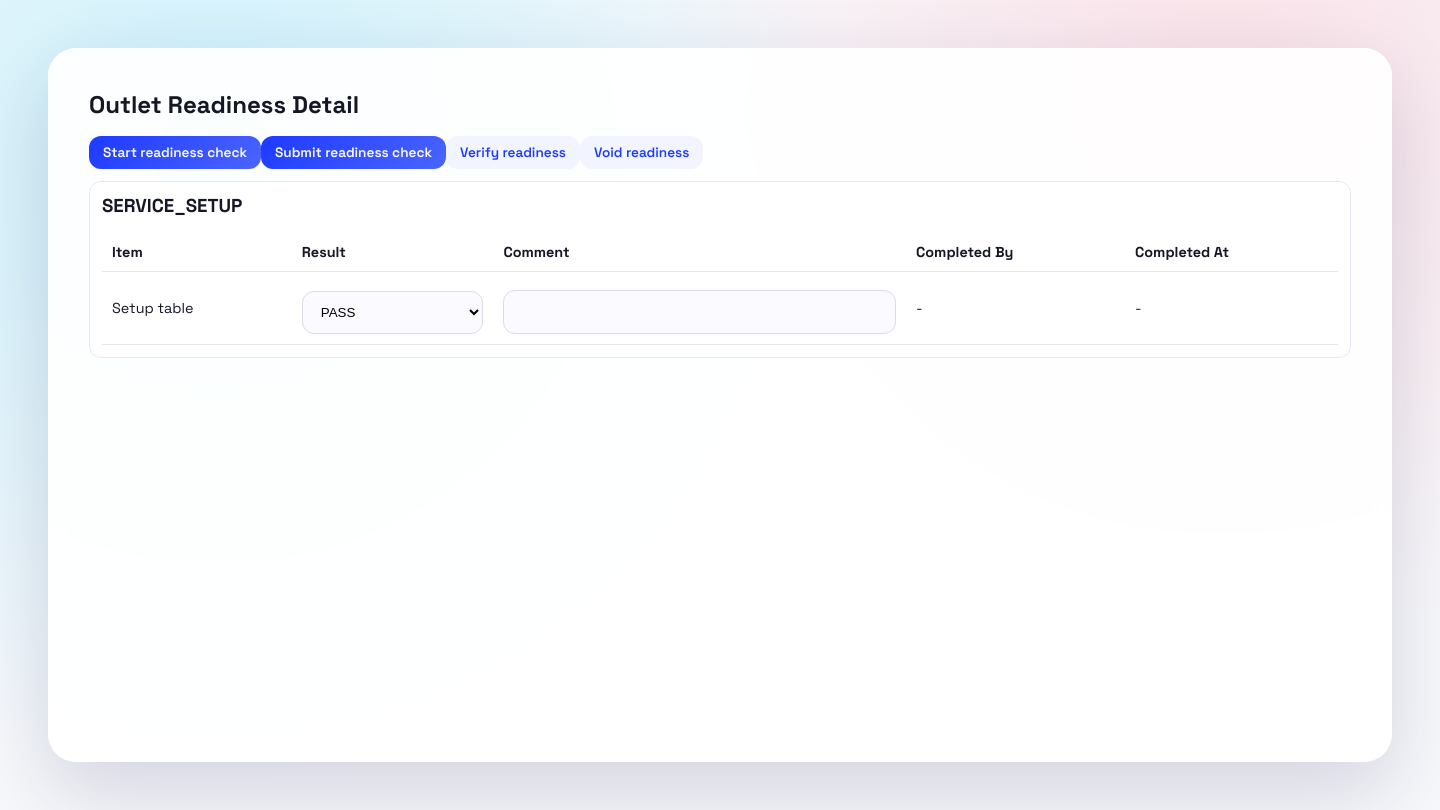
Test: OutletReadinessDetailPage › renders grouped checklist and validates fail comment and confirmation modal
Expected: the heading "SERVICE_SETUP" is shown, [102,194,242,217]
Select "FAIL" in the dropdown named "result-11": (392,312) [302,290,483,334]
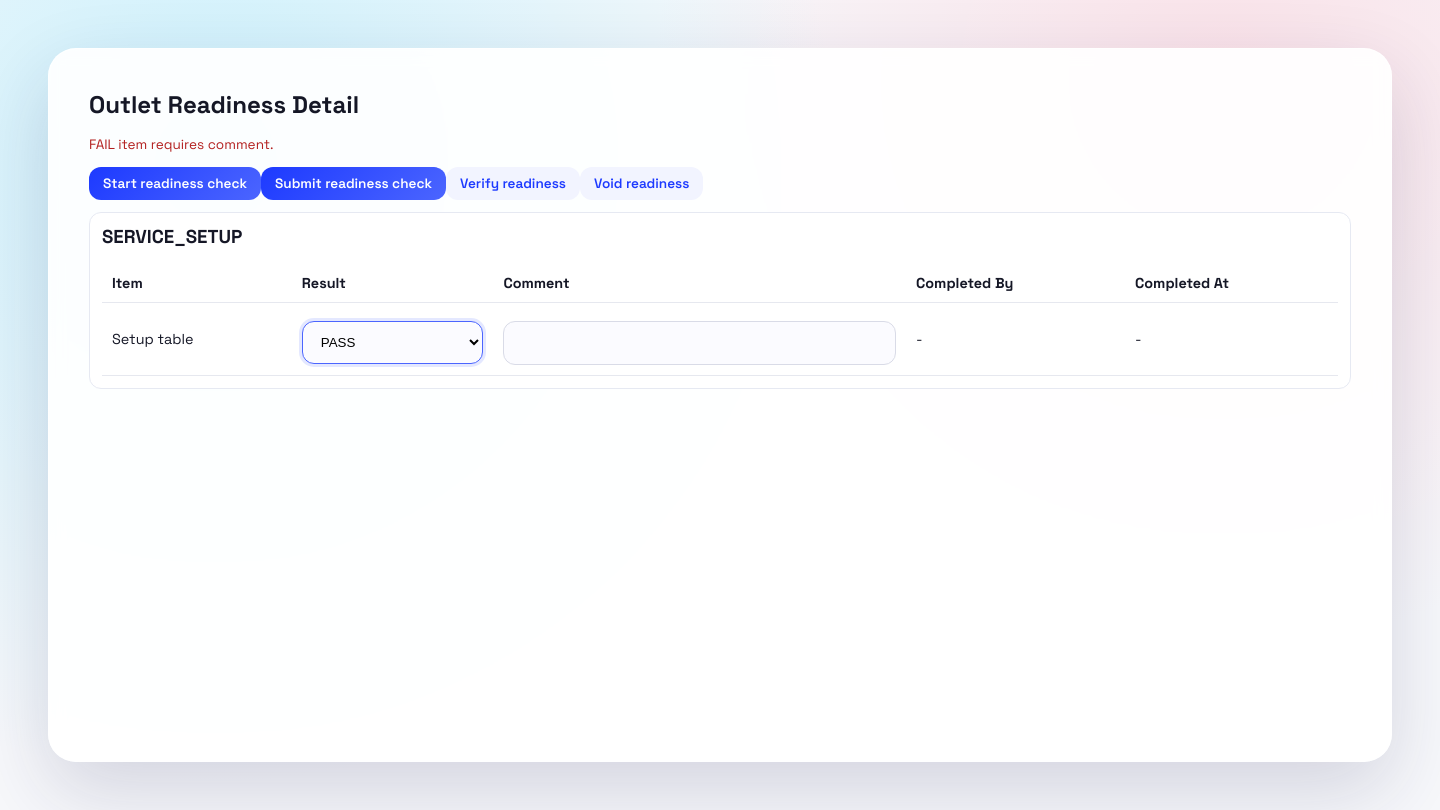
Now the text "FAIL item requires comment." is shown, box [89,136,274,153]
Click the button "Verify readiness": (513,183) [446,167,580,200]
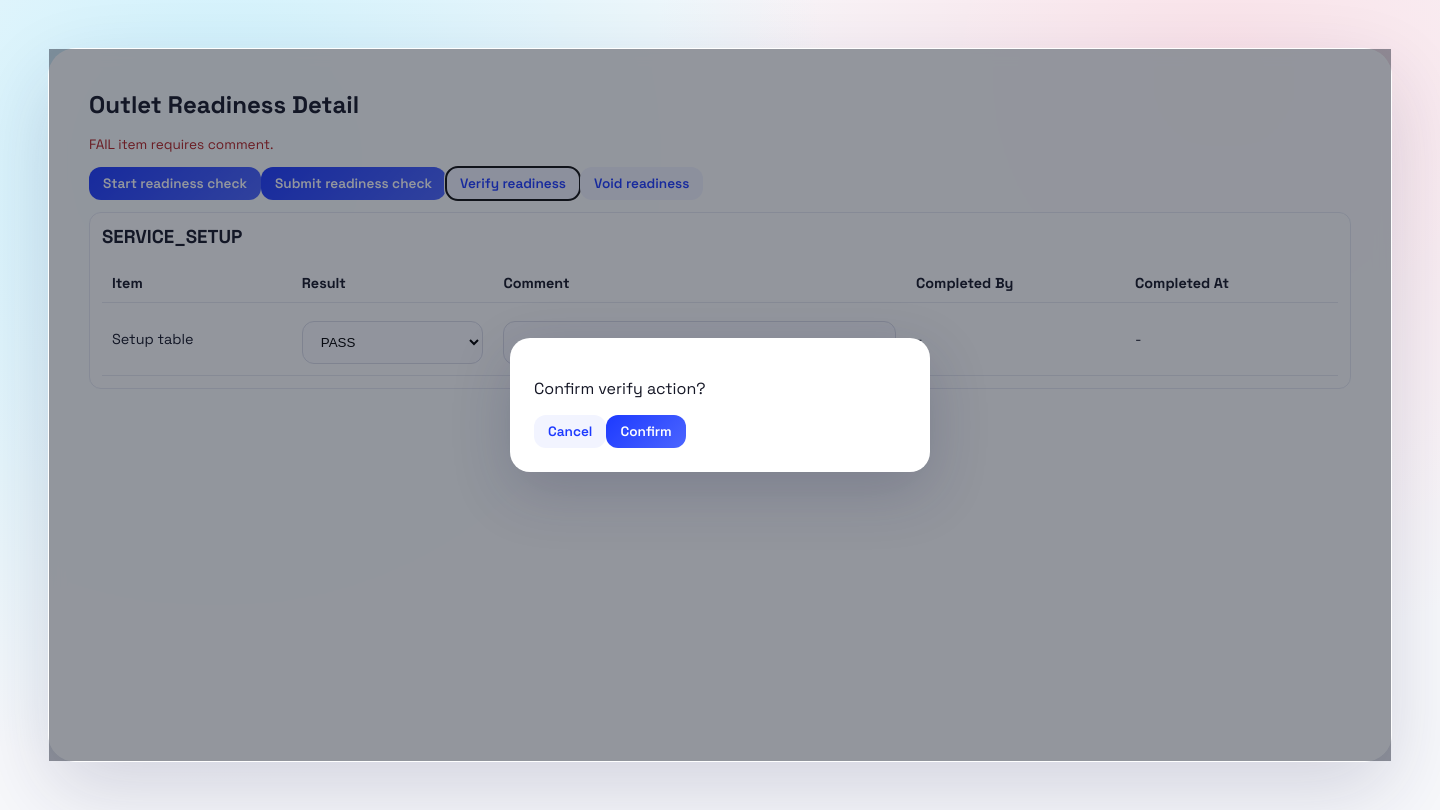
Now the dialog named "Readiness confirmation" is shown, box [510,338,930,472]
